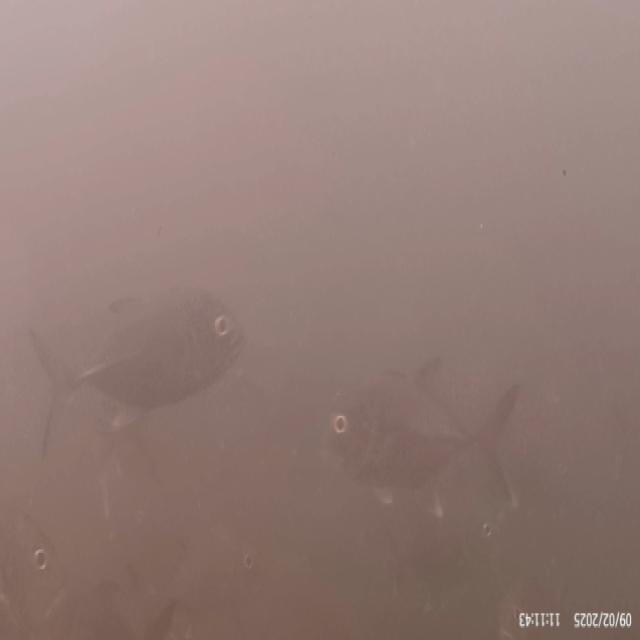ikan: (28, 281, 246, 460), (324, 352, 522, 519)
